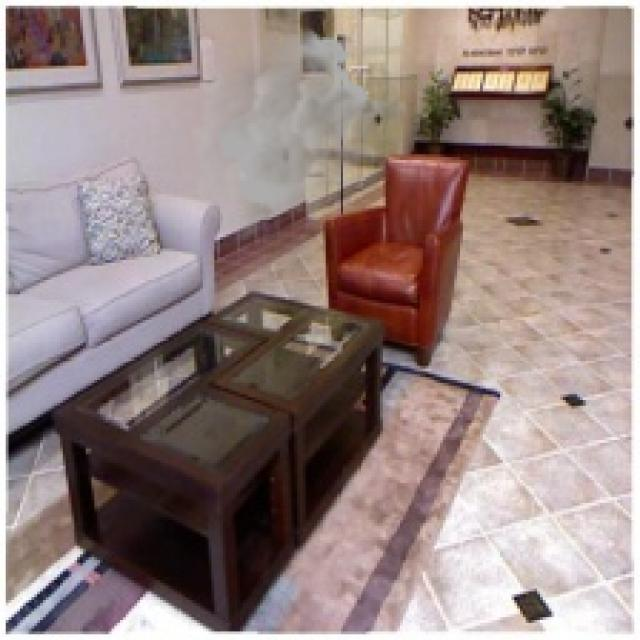smoke: (188, 26, 412, 243)
